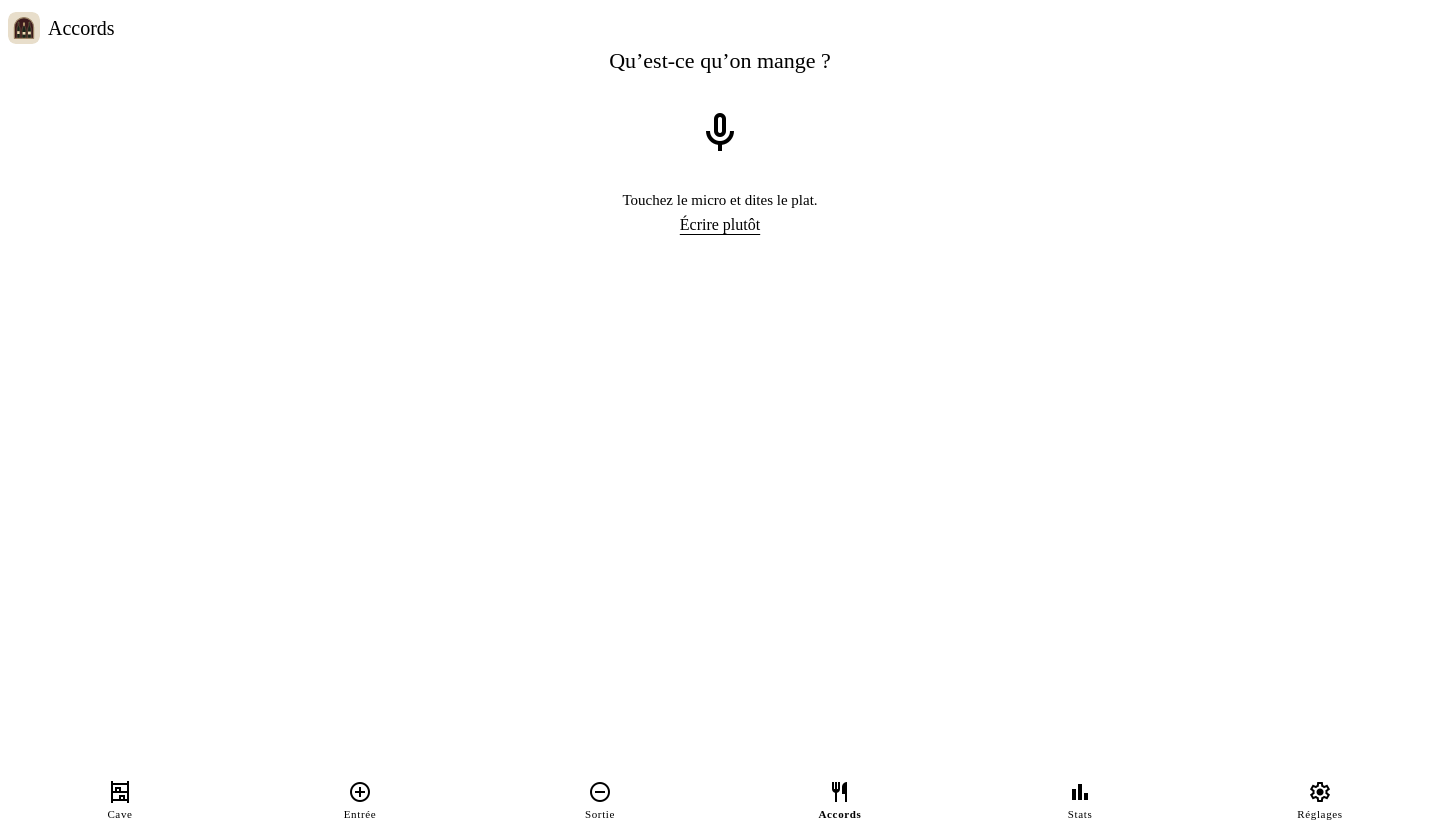
Test: dictée : texte intermédiaire en direct, la fin de la dictée lance la recherche
This screenshot has width=1440, height=822.
Click the button named "Dicter le plat".
click(720, 133)  # box [664,77,776,189]
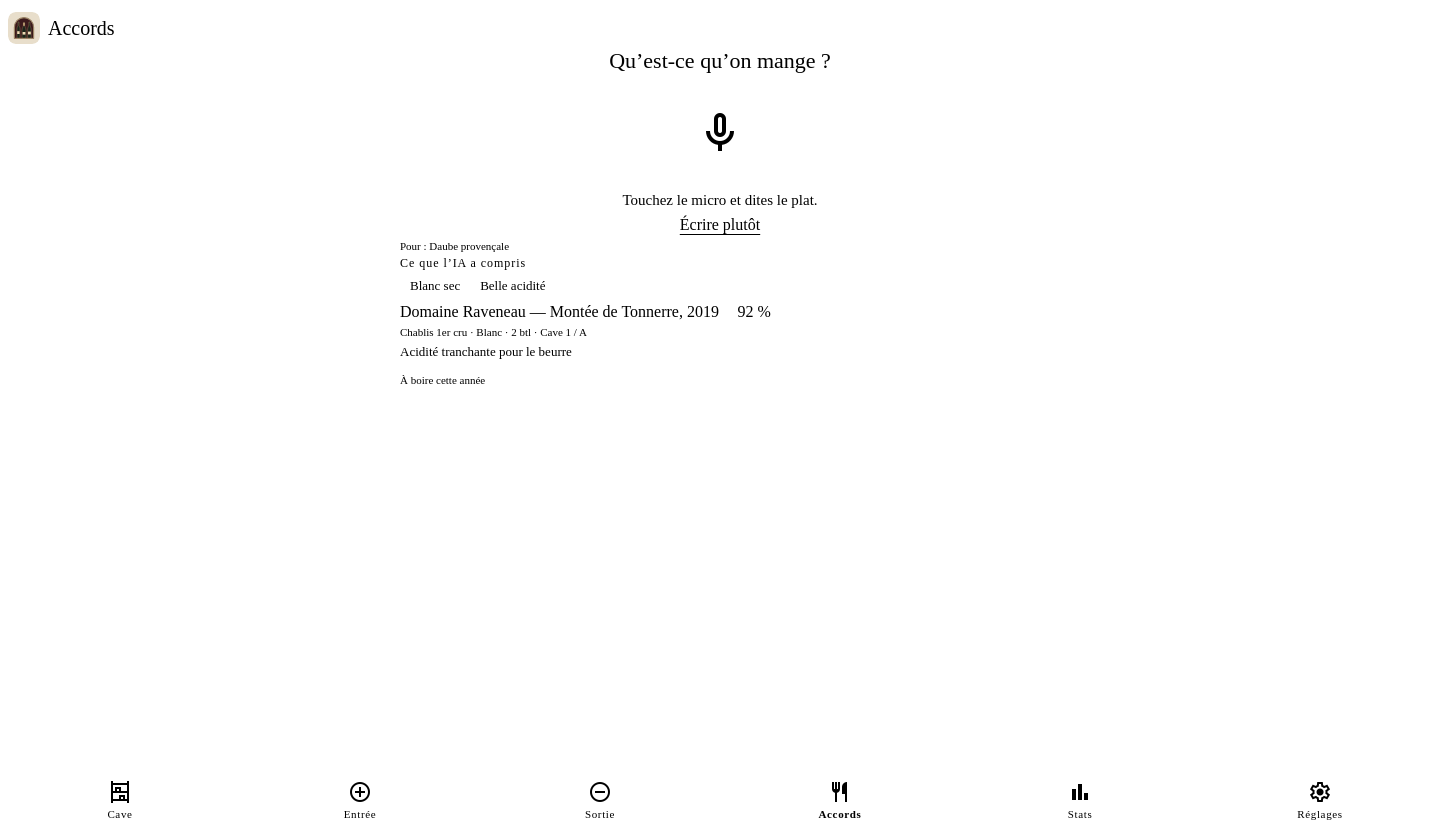
Check: the text "Daube provençale" is shown, box [622,189,818,212]
Check: the link "Domaine Raveneau" is shown, box [400,302,771,386]
